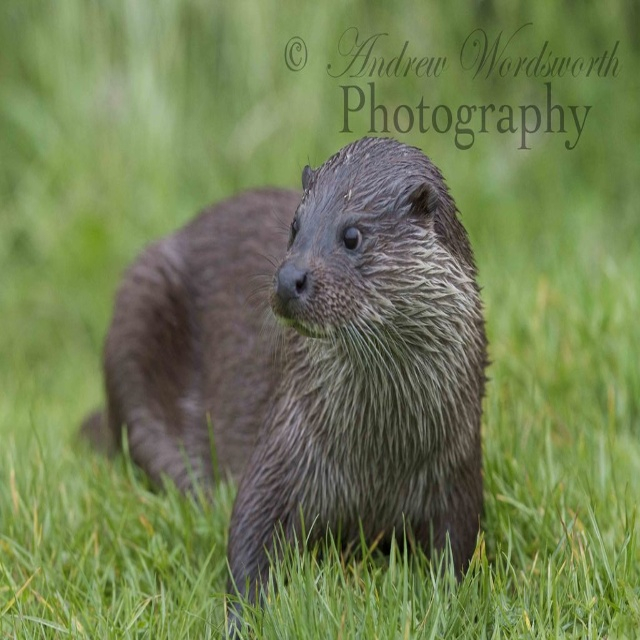Otter: (77, 136, 497, 640)
